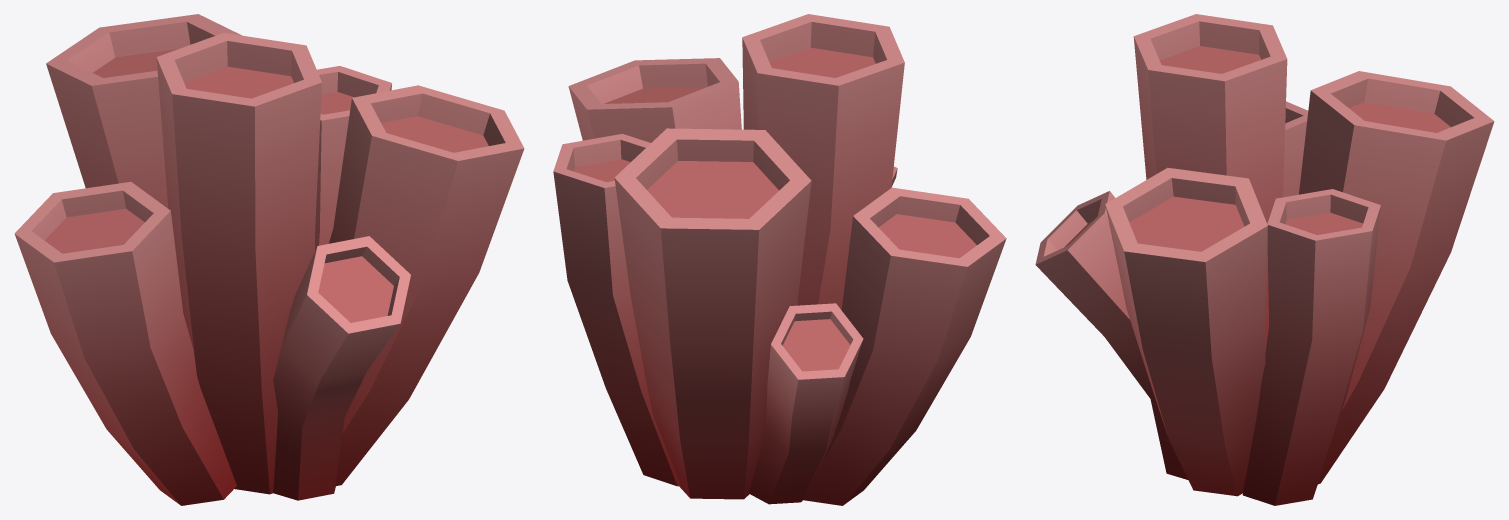
File: CoralReef_04.fbx
3 views of the same model, side by side, from view 1: azimuth 30°, elevation 25°; view 2: azimuth 150°, elevation 25°; view 3: azimuth 270°, elevation 25° (orthographic). The views are drawn at different scales.
Parts seen in each view (by area): view 1: CoralReef_04_LOD0; view 2: CoralReef_04_LOD0; view 3: CoralReef_04_LOD0.
Part boxes in pixels (left/top/right/bottom): CoralReef_04_LOD0: left=14, top=14, right=524, bottom=505; CoralReef_04_LOD0: left=553, top=14, right=1006, bottom=505; CoralReef_04_LOD0: left=1035, top=14, right=1494, bottom=505.
Size of what is drawn, in the model's own units: 0.2759 by 0.2543 by 0.2635.
